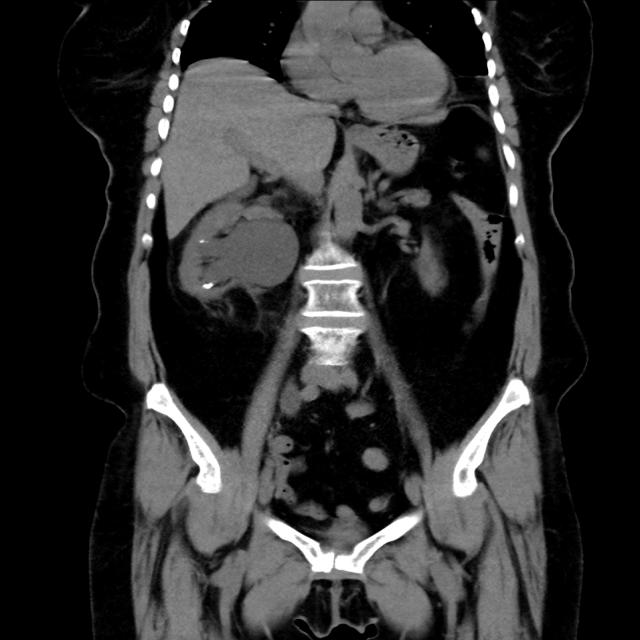kidneystone: (202, 282, 215, 289)
